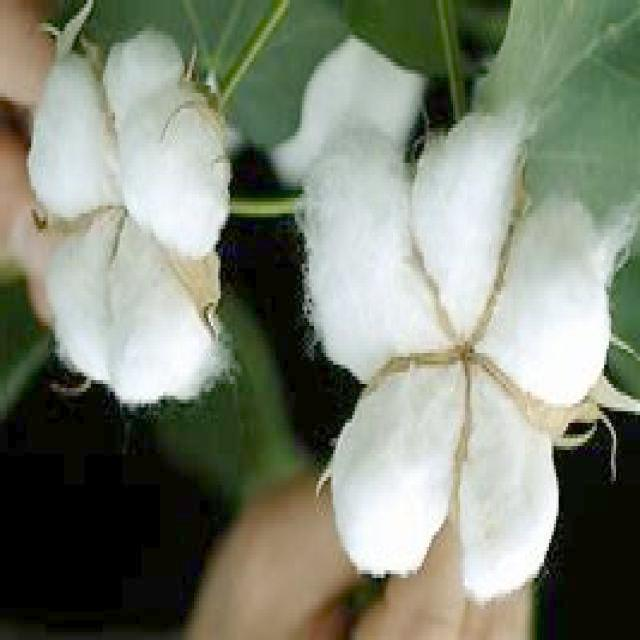Matured Cotton Boll: (301, 102, 619, 602), (23, 21, 237, 406)
